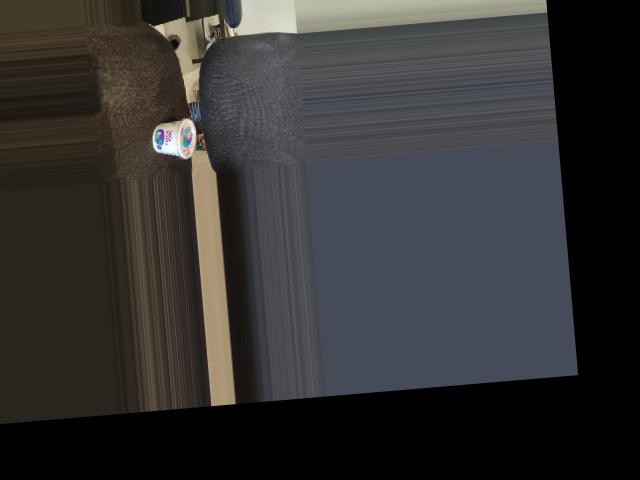cotage: (148, 115, 198, 161)
